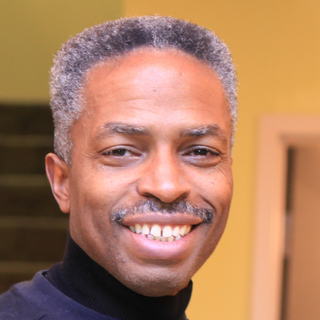eye: (96, 142, 145, 161), (177, 144, 226, 160)
